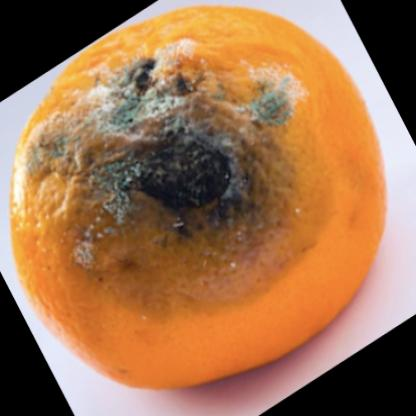rotten: (12, 9, 388, 387)
